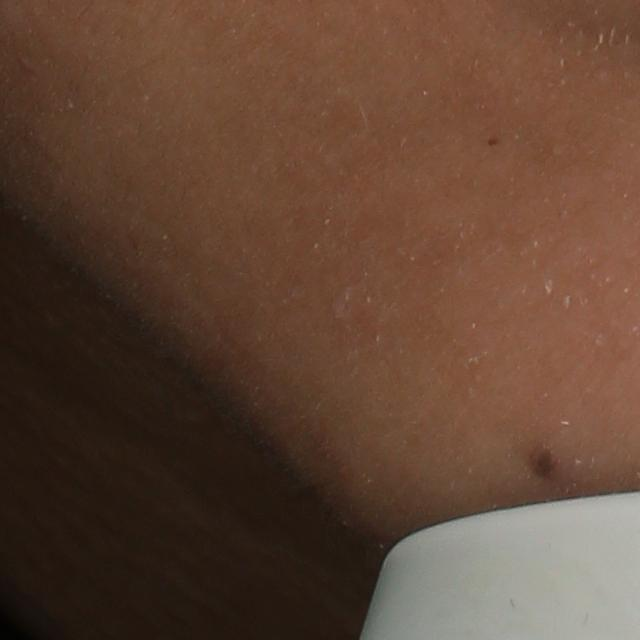nevus: (526, 440, 564, 482)
